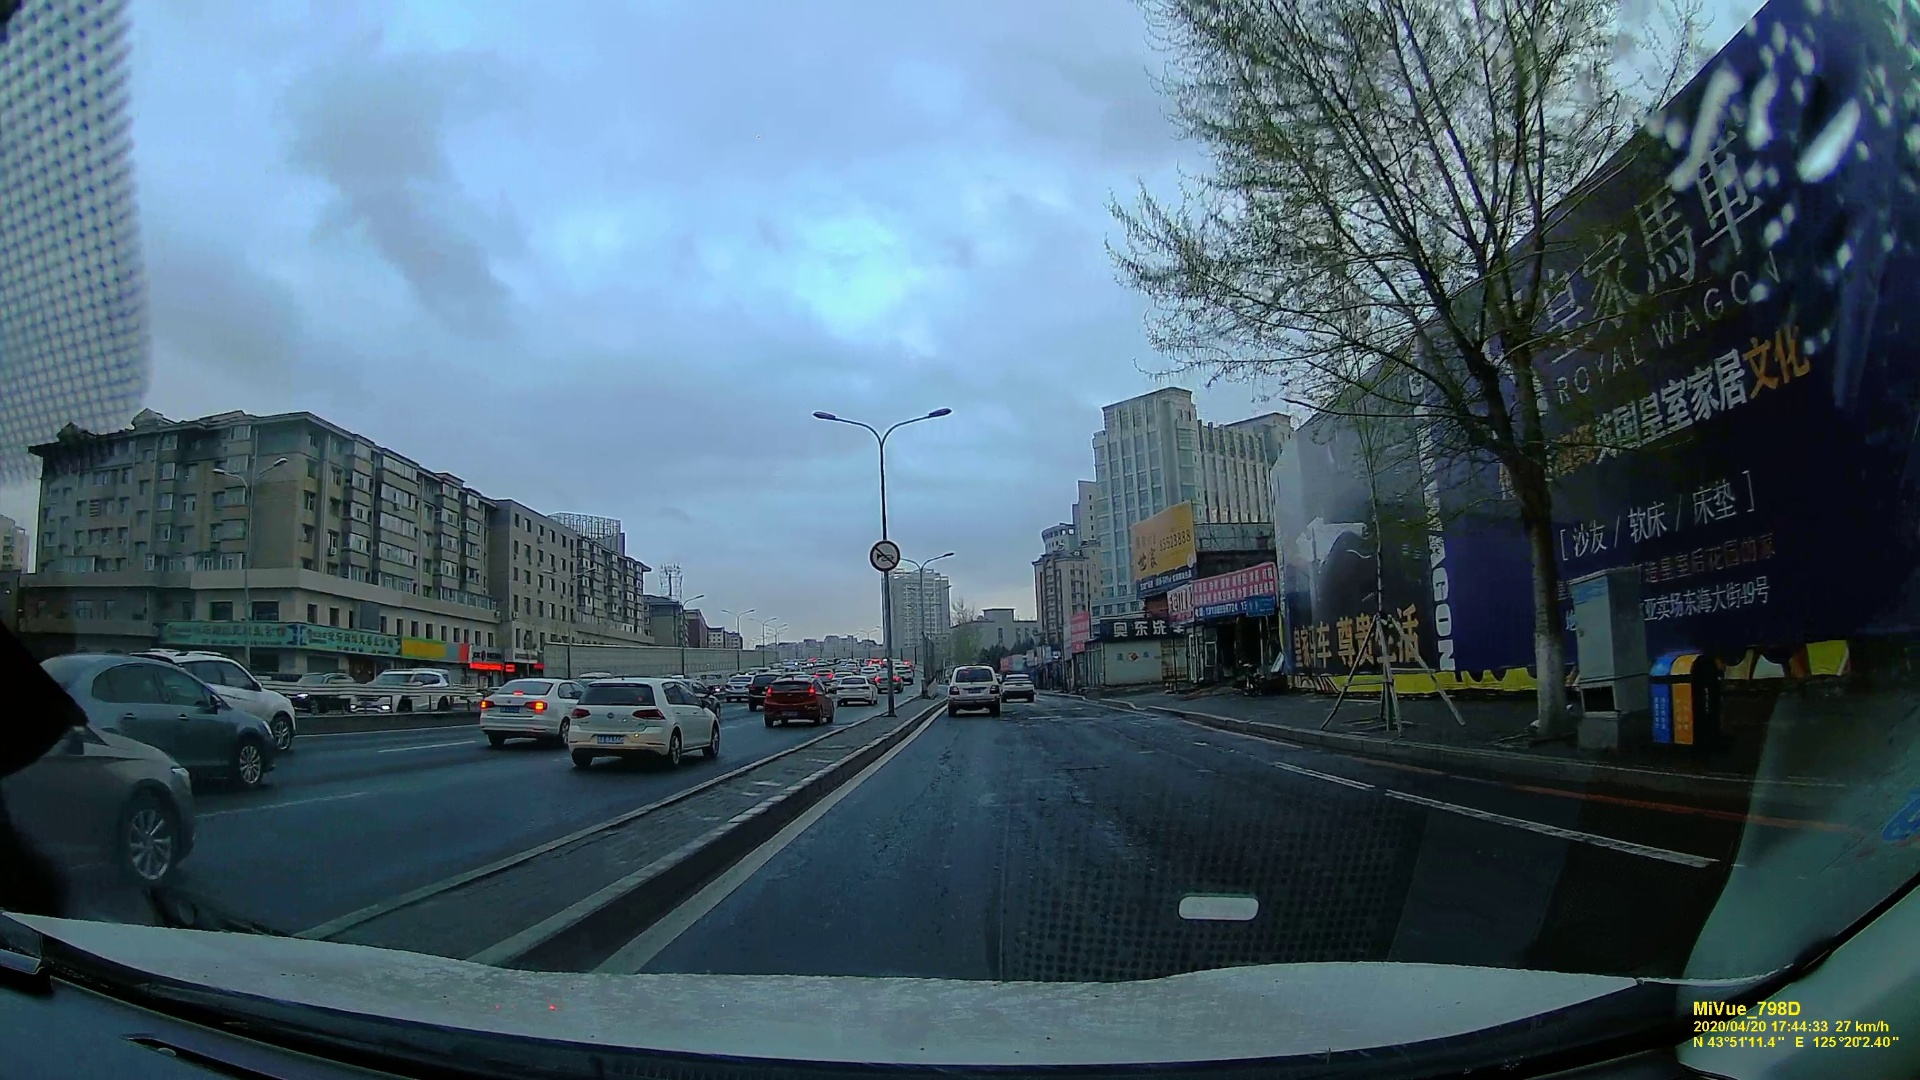traffic_sign: (872, 538, 897, 571)
vehicle: (36, 645, 295, 825), (566, 674, 717, 769), (477, 673, 582, 746), (753, 678, 837, 728), (945, 665, 1000, 715)
